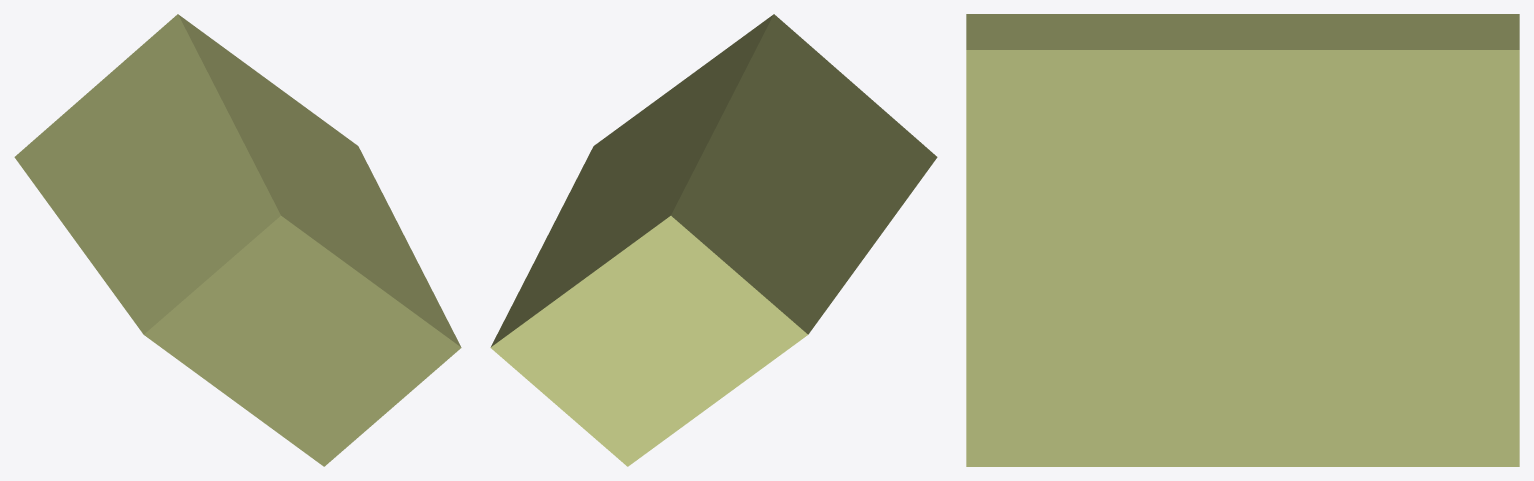
3 views of the same model, side by side, from view 1: azimuth 30°, elevation 25°; view 2: azimuth 150°, elevation 25°; view 3: azimuth 270°, elevation 25° (orthographic). The views are drawn at different scales.
Visible parts, largest first — view 1: 0_1_1_3_2_2_3_3_1_0_1; view 2: 0_1_1_3_2_2_3_3_1_0_1; view 3: 0_1_1_3_2_2_3_3_1_0_1.
Boxes of the visible parts, left/top/right/bottom form: 0_1_1_3_2_2_3_3_1_0_1: left=14, top=14, right=461, bottom=466; 0_1_1_3_2_2_3_3_1_0_1: left=490, top=14, right=937, bottom=466; 0_1_1_3_2_2_3_3_1_0_1: left=966, top=14, right=1519, bottom=466.
Size of the model in its own units: 5.12 by 5.73 by 6.
